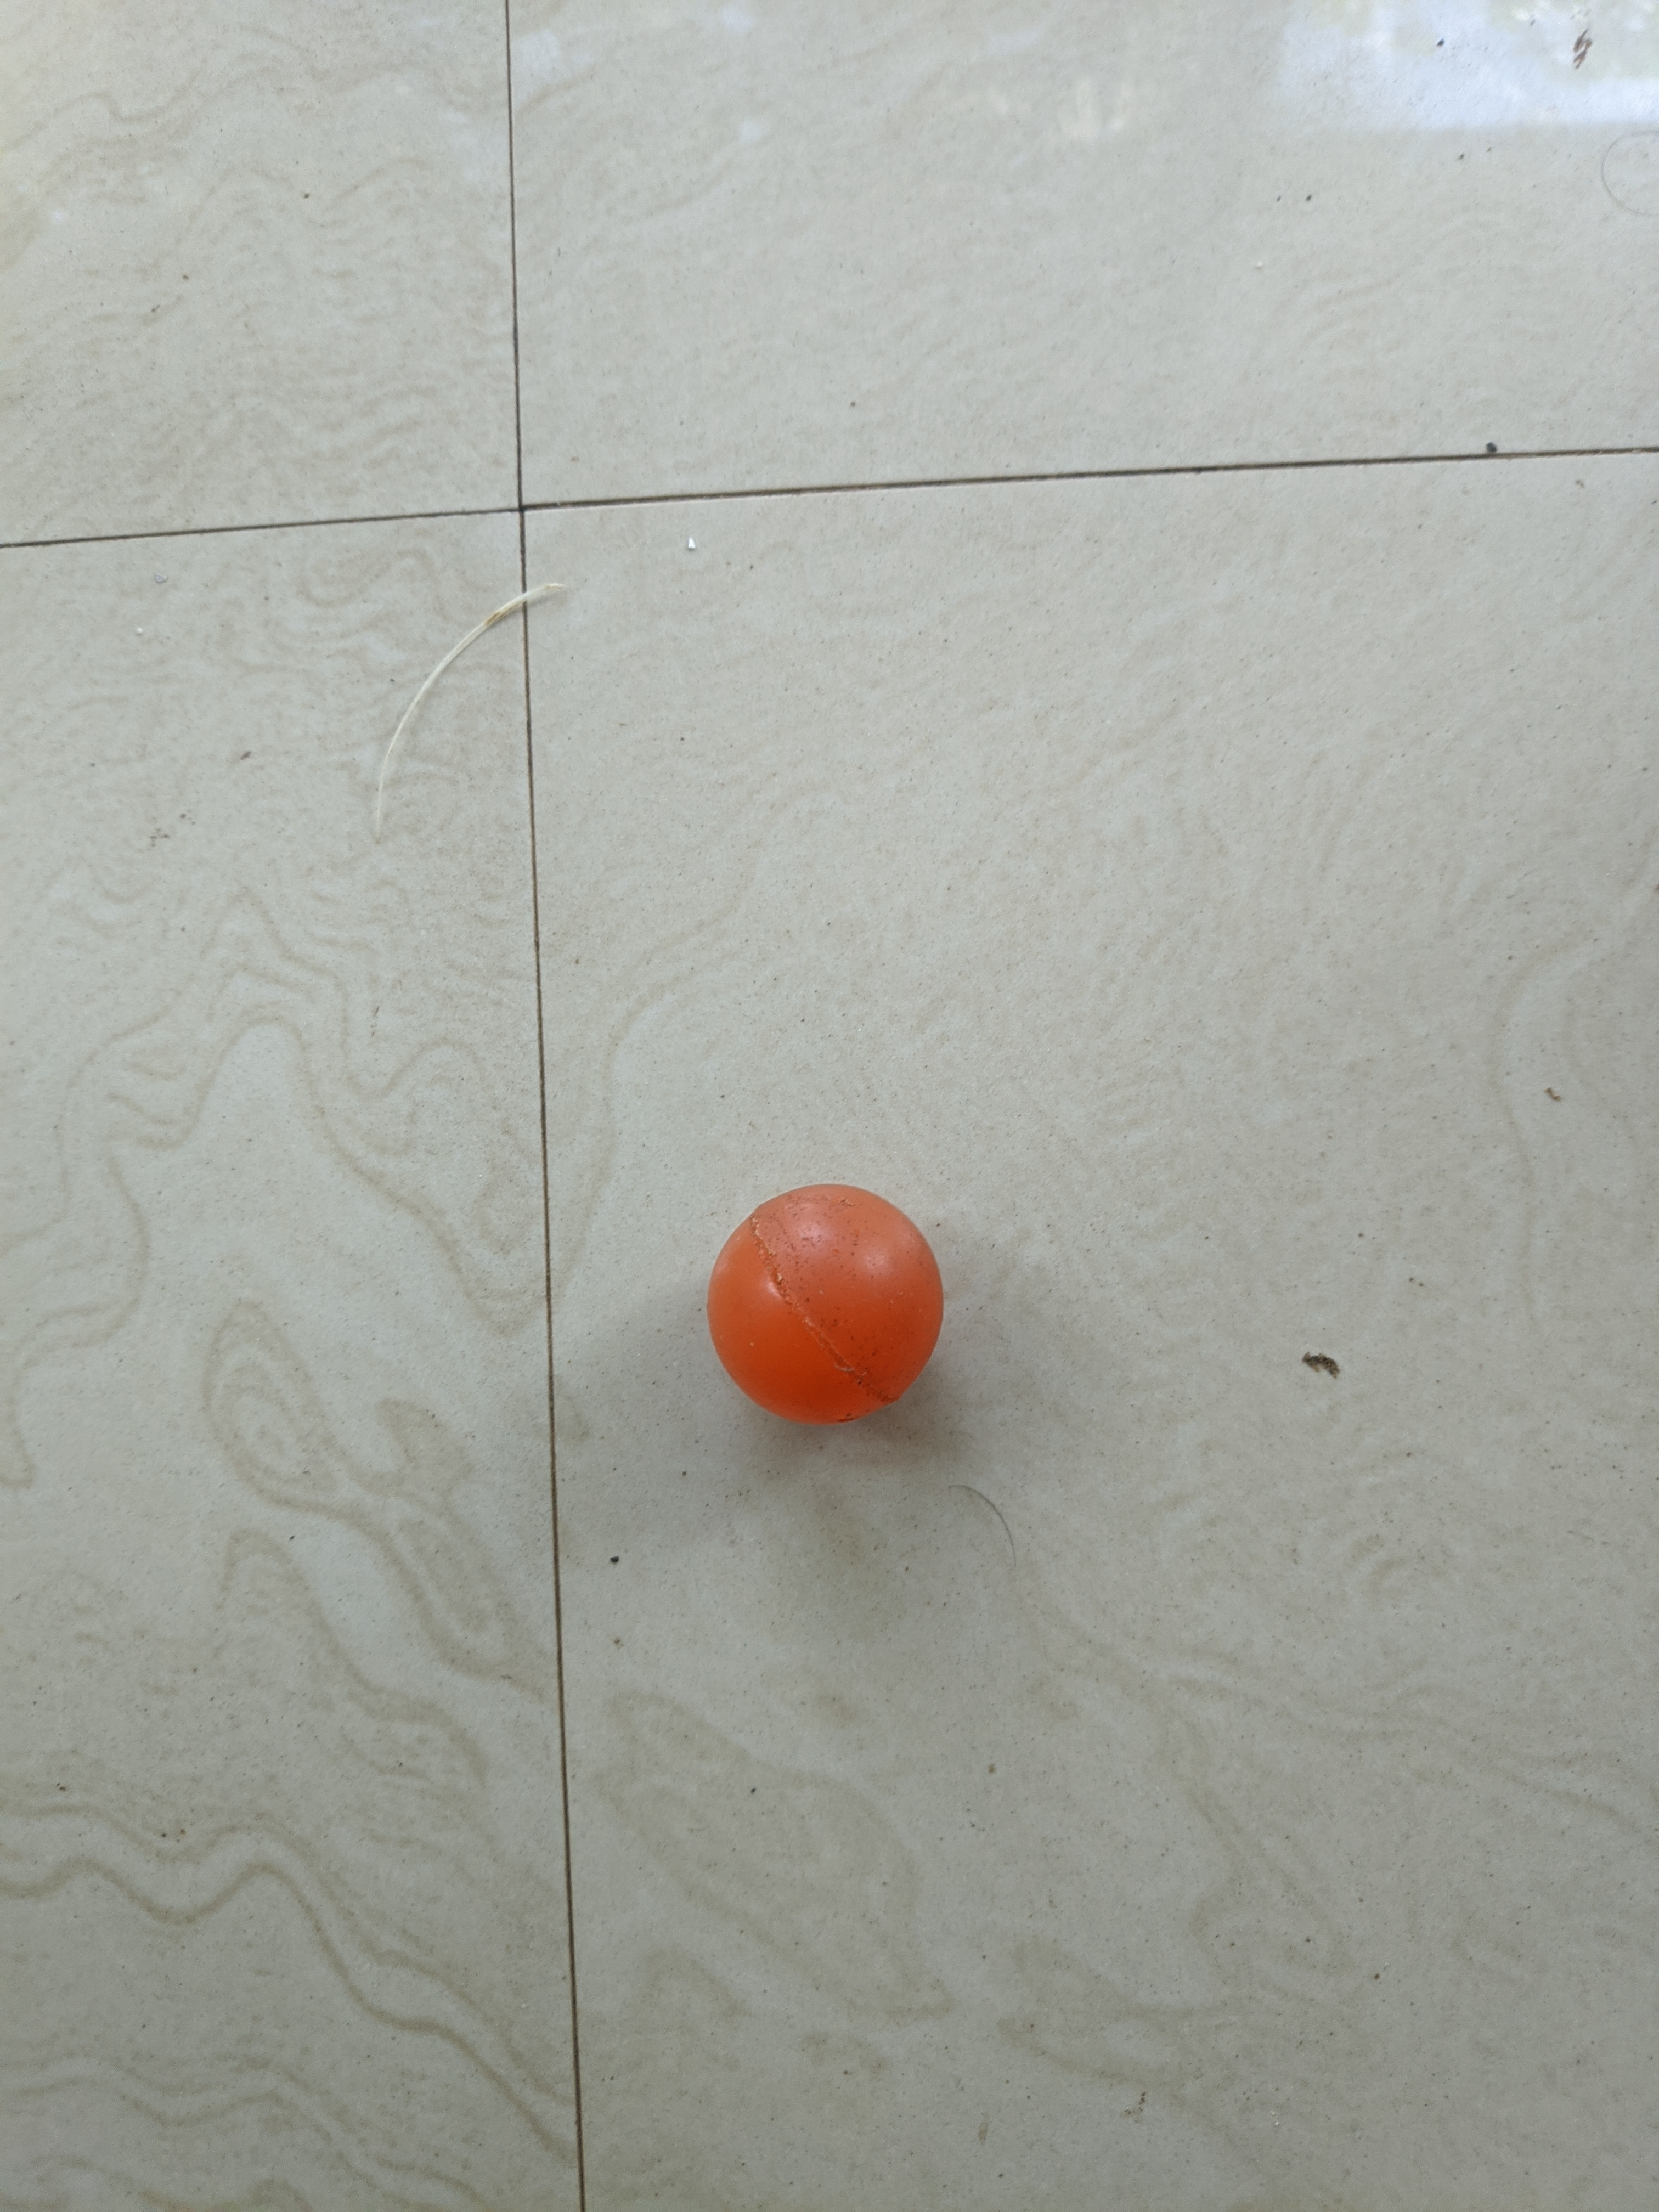red_ball: (701, 1165, 948, 1446)
